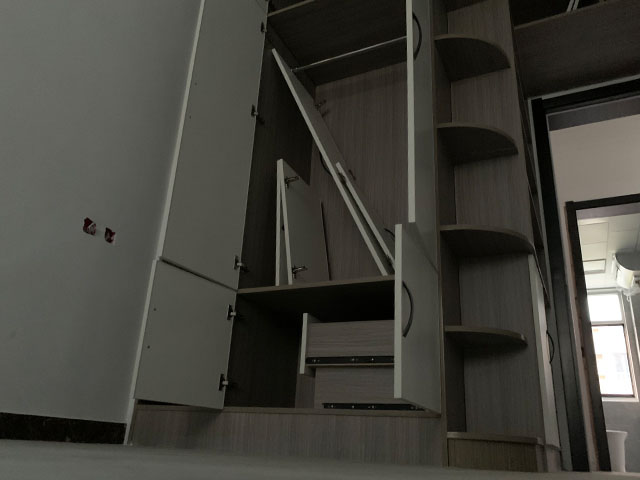cabinet: (125, 212, 544, 473)
